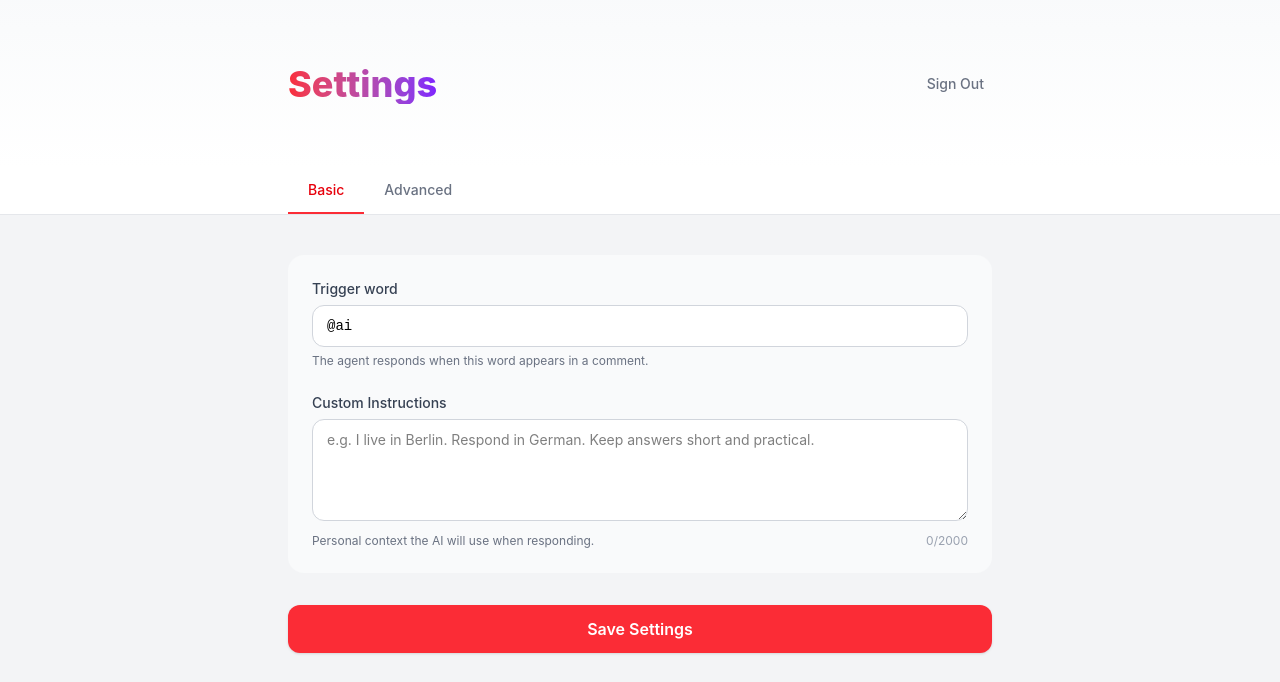
Test: Settings: save › shows success message on save
The width and height of the screenshot is (1280, 682).
Check: the heading "Settings" is shown, box left=288, top=64, right=437, bottom=104
Click the button "Save Settings" at {"x": 640, "y": 629}, box left=288, top=605, right=992, bottom=653
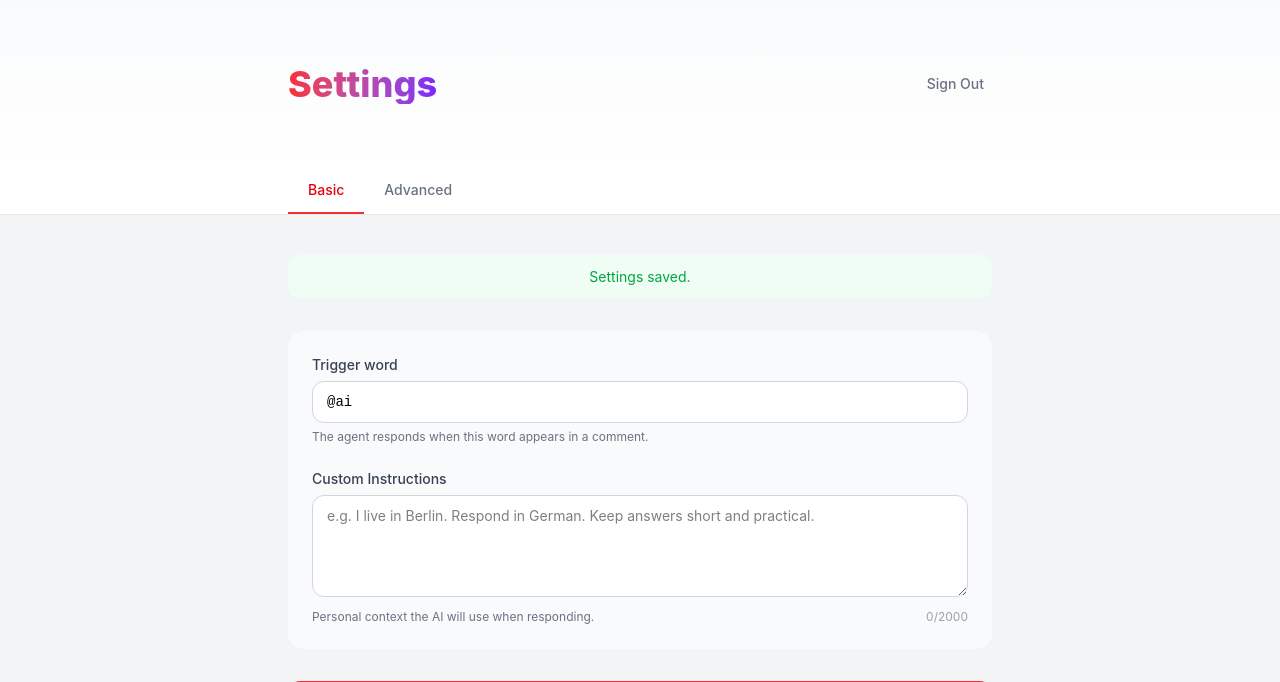
Check: the text "Settings saved." is shown, box left=288, top=255, right=992, bottom=299
